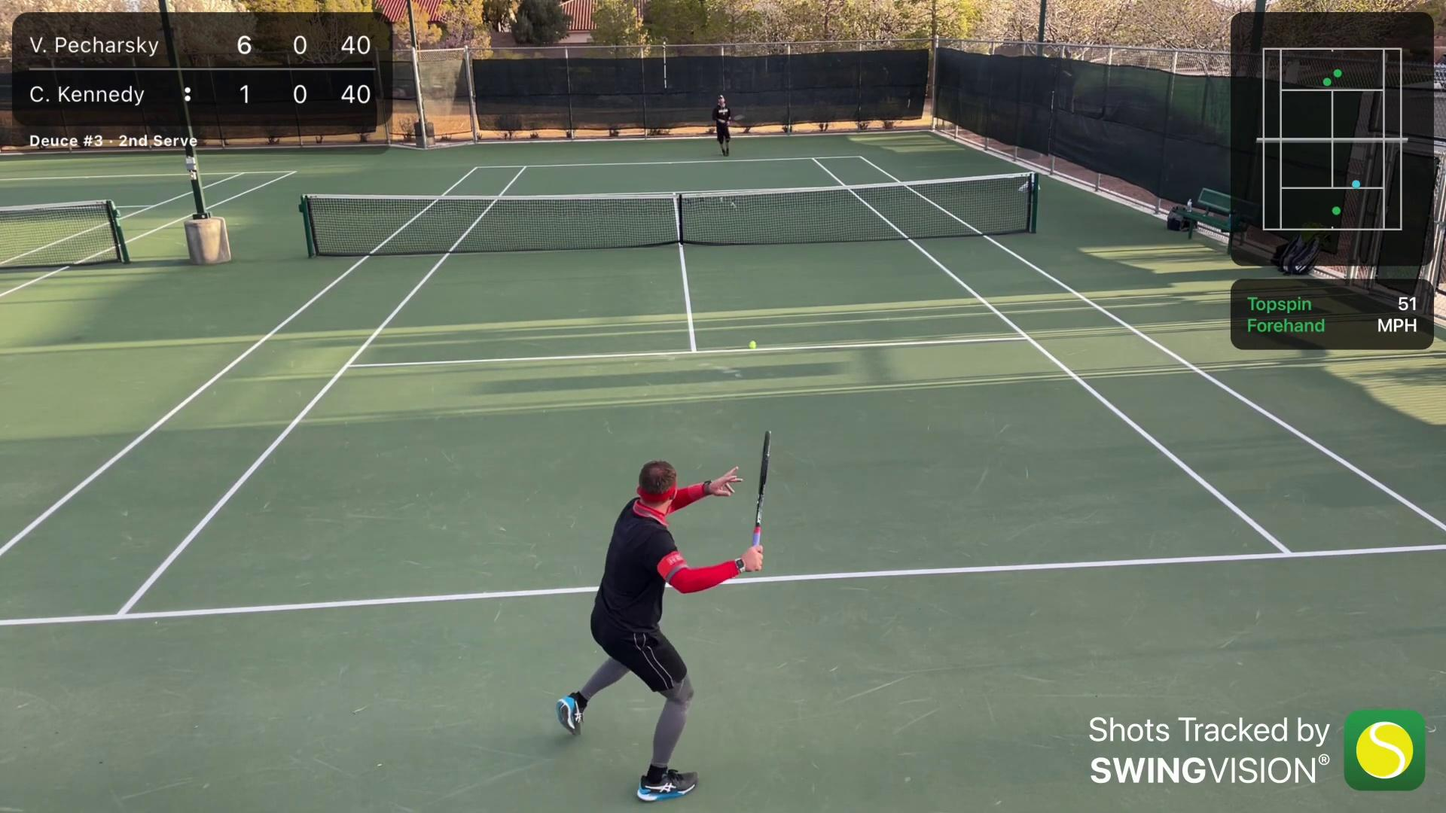ball: (747, 338, 760, 351)
